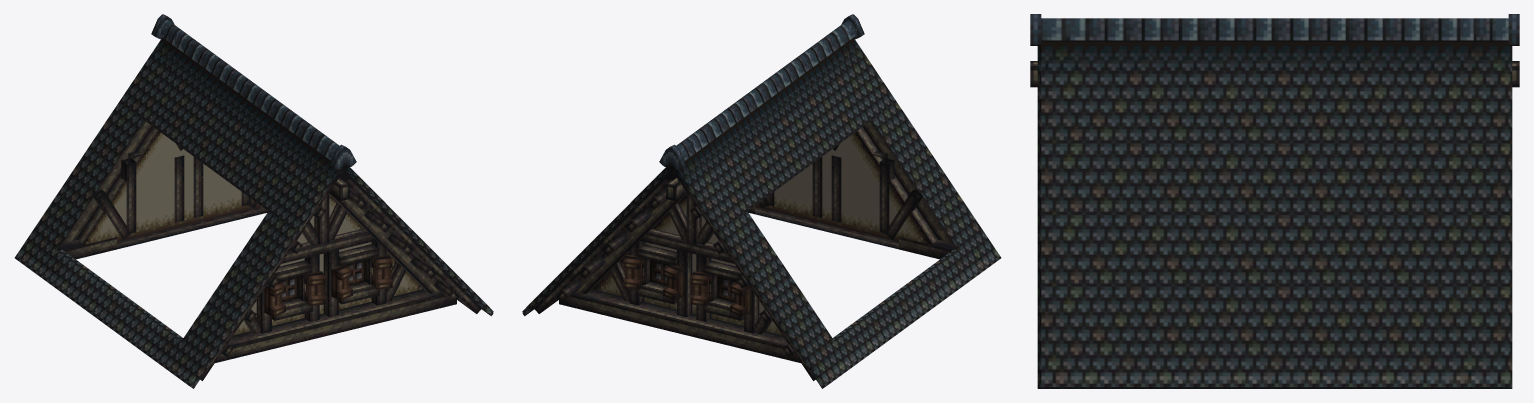
The model's file is EnvBdgMD_Mount_A_Outdoor_Inn_Top.FBX.
3 renders of one model, left to right at view 1: azimuth 30°, elevation 25°; view 2: azimuth 150°, elevation 25°; view 3: azimuth 270°, elevation 25°, orthographic. The views are drawn at different scales.
Parts seen in each view (by area): view 1: EnvBdgMD_Mount_A_Outdoor_Inn_Top; view 2: EnvBdgMD_Mount_A_Outdoor_Inn_Top; view 3: EnvBdgMD_Mount_A_Outdoor_Inn_Top.
Part boxes in pixels (x1=…): EnvBdgMD_Mount_A_Outdoor_Inn_Top: x1=14, y1=14, x2=493, y2=388; EnvBdgMD_Mount_A_Outdoor_Inn_Top: x1=522, y1=14, x2=1001, y2=388; EnvBdgMD_Mount_A_Outdoor_Inn_Top: x1=1030, y1=14, x2=1519, y2=388.
Bounding box in the file's own units: 636 × 413 × 660.
1 material, 1 textured.
